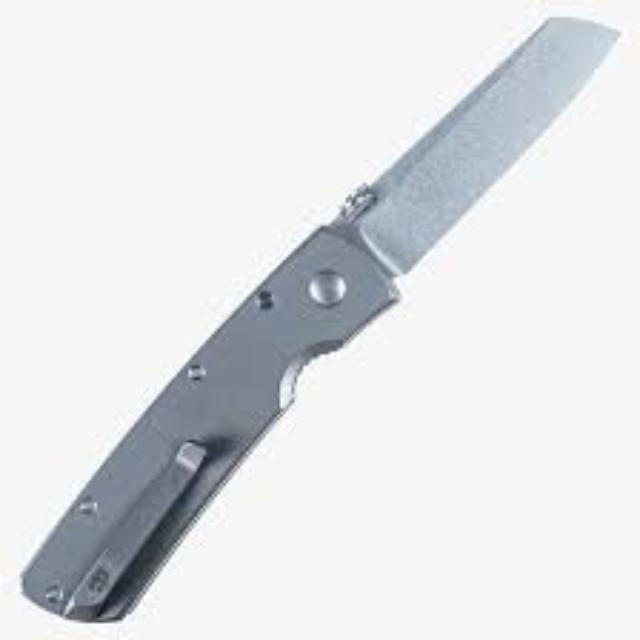Knife: (18, 11, 620, 622)
